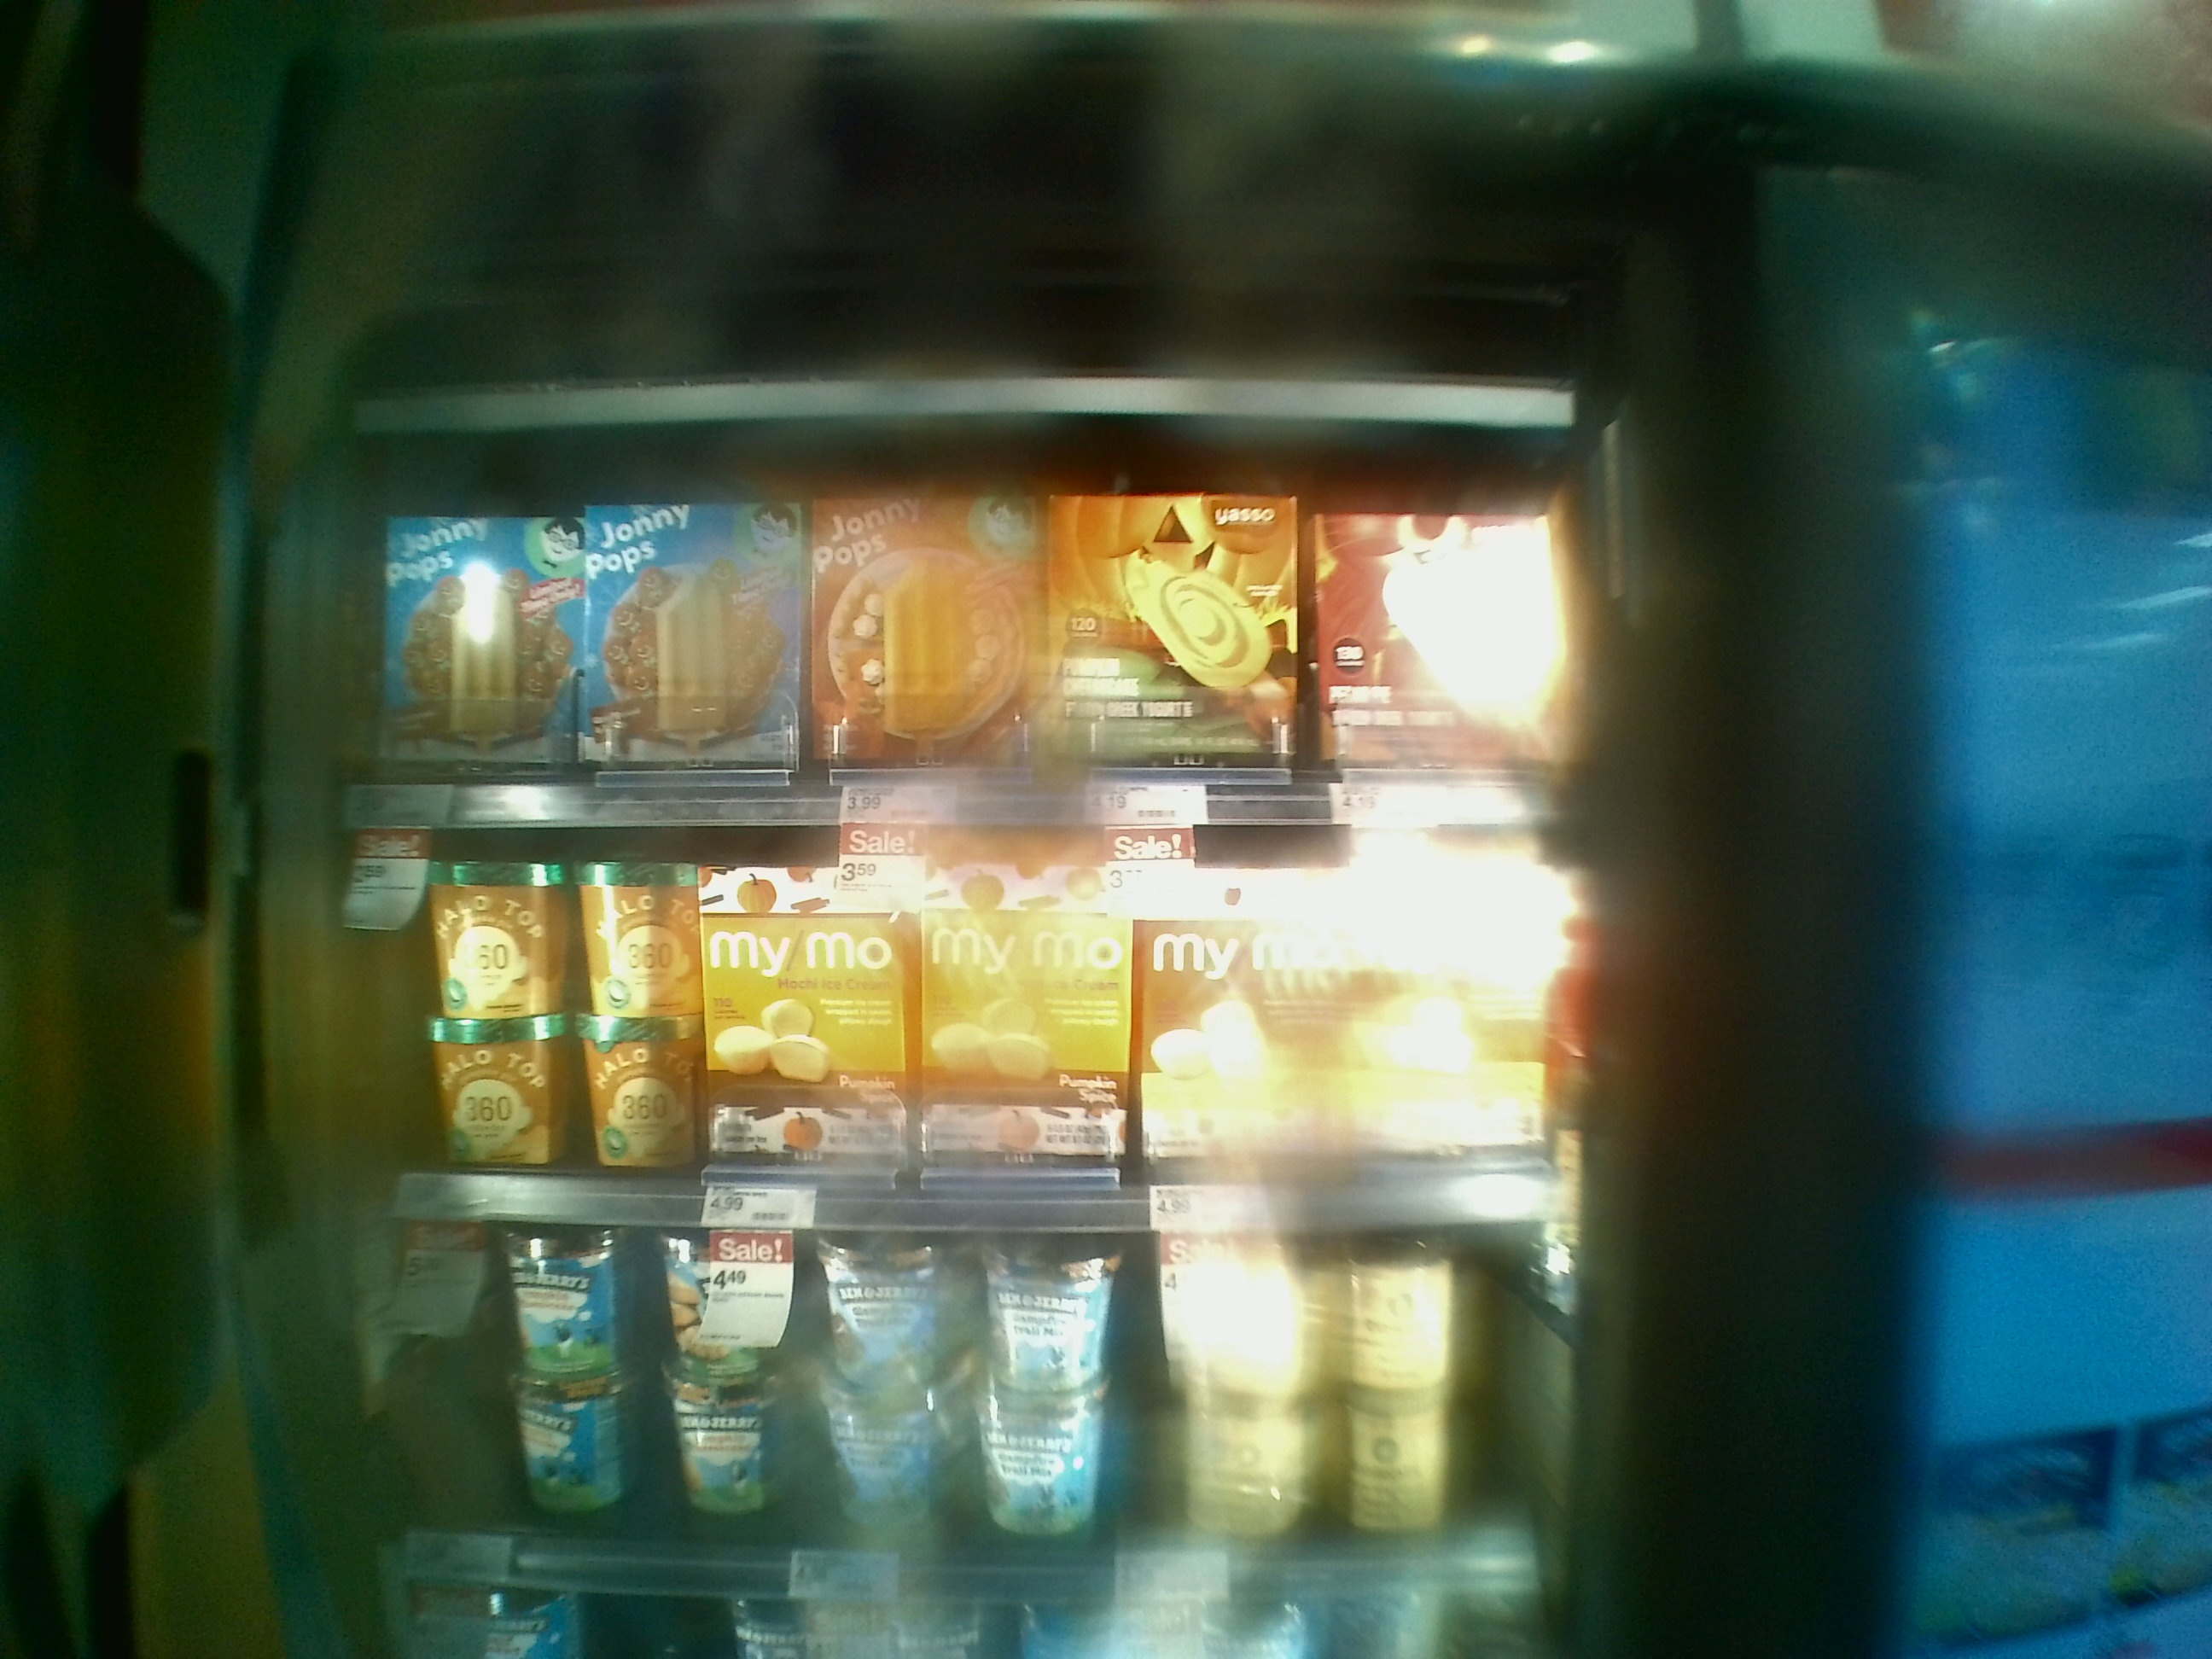shelf: (319, 816, 1588, 1239), (327, 1220, 1581, 1626), (329, 443, 1588, 840)
